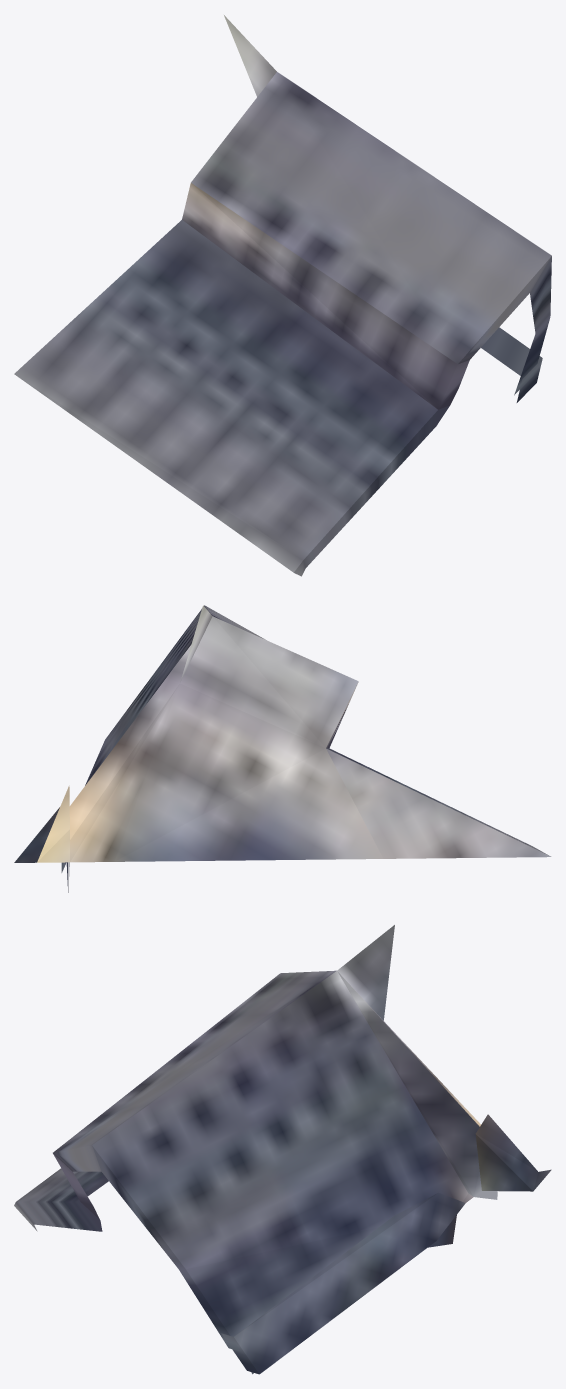
3 renders of one model, top to bottom at view 1: azimuth 30°, elevation 25°; view 2: azimuth 150°, elevation 25°; view 3: azimuth 270°, elevation 25°, orthographic. The views are drawn at different scales.
Size of the model in its own units: 32.82 by 23.58 by 31.95.
1 material, 1 textured.
